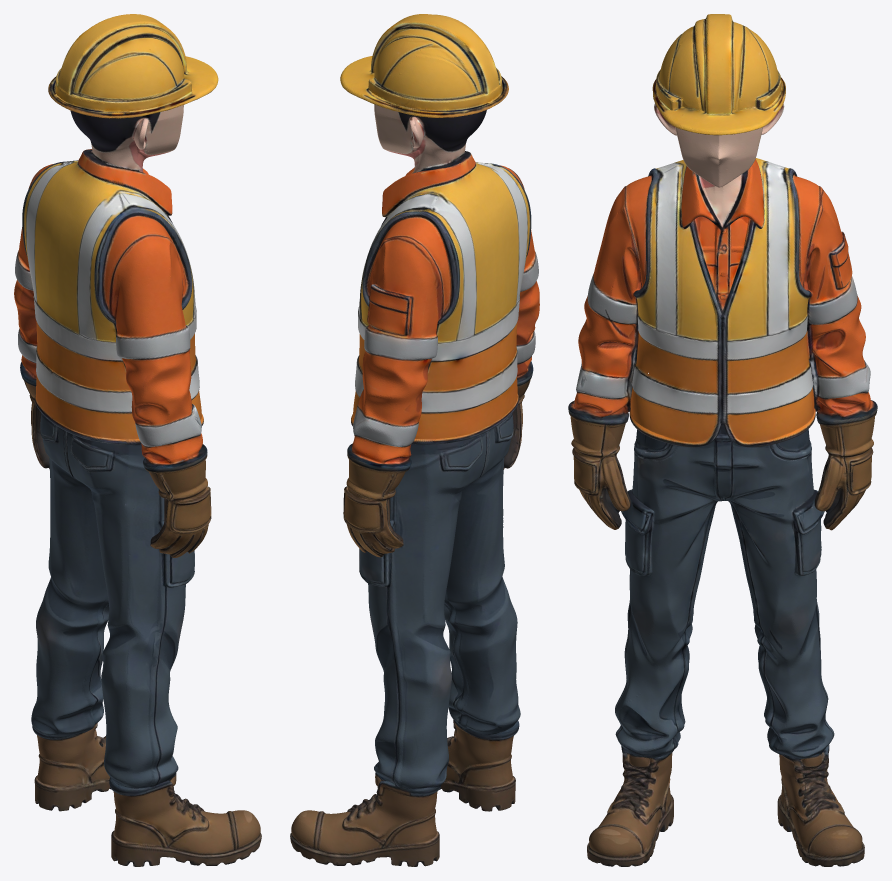
Rendered from construction+worker+3d+model (1).glb.
The picture shows the model from 3 angles, left to right: view 1: azimuth 30°, elevation 25°; view 2: azimuth 150°, elevation 25°; view 3: azimuth 270°, elevation 25°; orthographic projection.
Visible parts, largest first — view 1: tripo_node_fed13001-f28e-422f-b482-a681baf7f88a; view 2: tripo_node_fed13001-f28e-422f-b482-a681baf7f88a; view 3: tripo_node_fed13001-f28e-422f-b482-a681baf7f88a.
Boxes of the visible parts, x1,y1,x2,y2 form: tripo_node_fed13001-f28e-422f-b482-a681baf7f88a: [14, 14, 261, 866]; tripo_node_fed13001-f28e-422f-b482-a681baf7f88a: [290, 14, 539, 866]; tripo_node_fed13001-f28e-422f-b482-a681baf7f88a: [568, 14, 877, 866].
Bounding box in the file's own units: 0.2048 × 0.9998 × 0.3456.
Materials: 1 (1 with a texture image).
